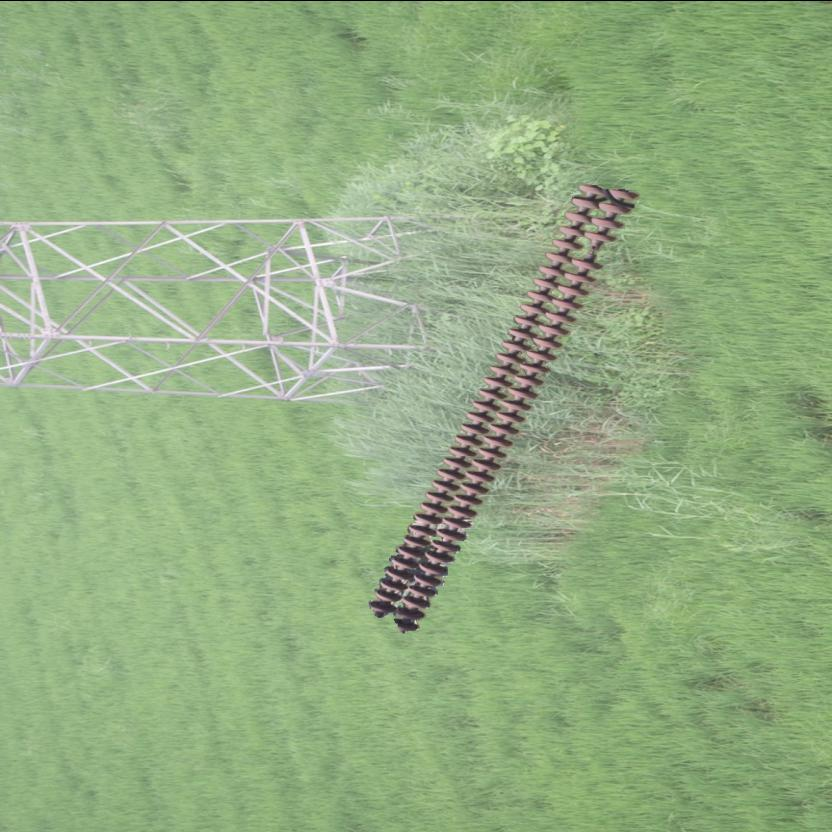defect: (568, 226, 618, 270)
